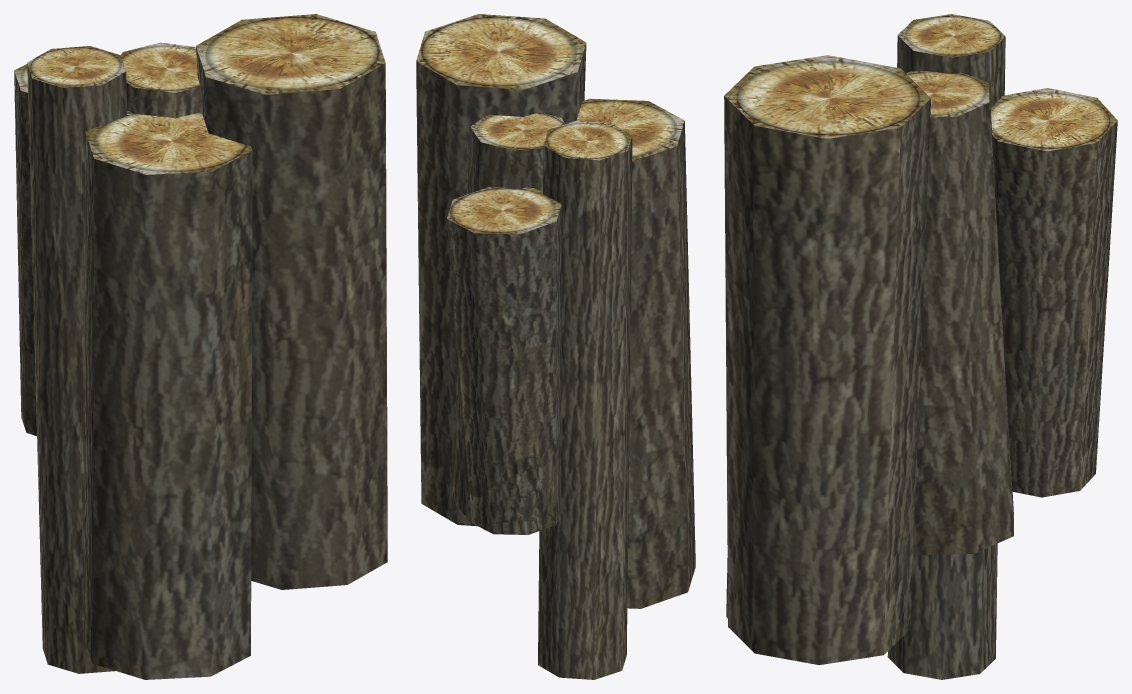
Rendered from wood01.fbx.
3 views of the same model, side by side, from view 1: azimuth 30°, elevation 25°; view 2: azimuth 150°, elevation 25°; view 3: azimuth 270°, elevation 25° (orthographic). The views are drawn at different scales.
Visible parts, largest first — view 1: wood01; view 2: wood01; view 3: wood01.
Boxes of the visible parts, x1,y1,x2,y2 form: wood01: (14, 14, 387, 679); wood01: (416, 14, 695, 679); wood01: (724, 14, 1117, 679).
Bounding box in the file's own units: 0.5114 × 0.574 × 1.03.
